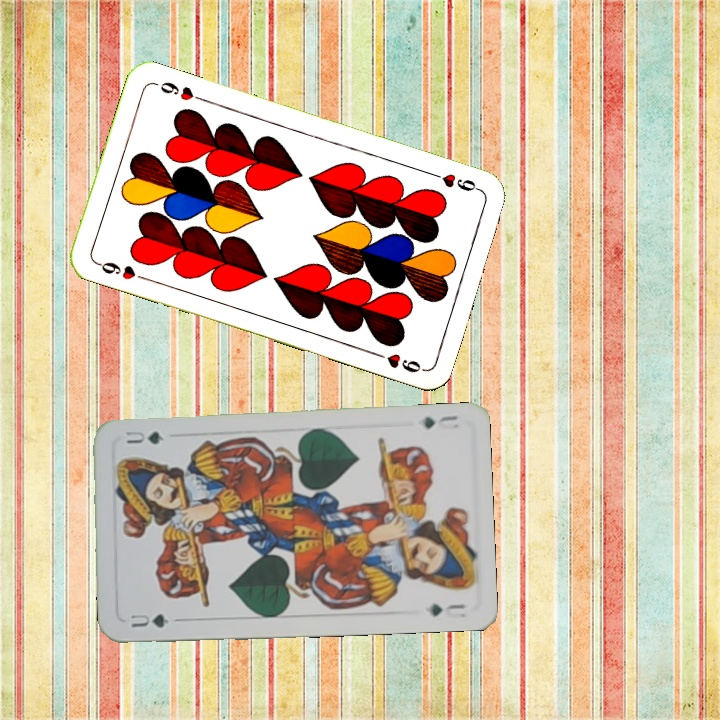GU: (126, 609, 172, 630), (418, 412, 460, 432)
H9: (426, 168, 484, 194), (92, 258, 150, 283)
